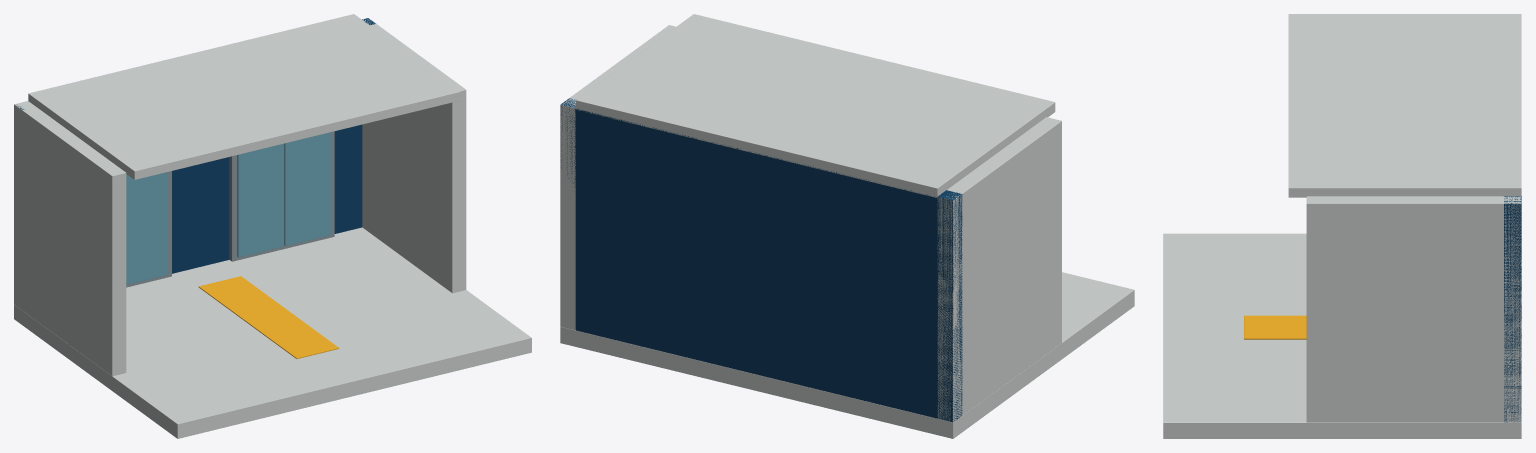
File: edited.glb
The picture shows the model from 3 angles, left to right: view 1: azimuth 30°, elevation 25°; view 2: azimuth 150°, elevation 25°; view 3: azimuth 270°, elevation 25°; orthographic projection. The views are drawn at different scales.
Visible parts, largest first — view 1: FLOOR, CEILING, CORE_Side.001, CORE_Side, CORE_Back, LIFT_Leaf.002, LIFT_Leaf.003, LIFT_Leaf.001, CIRCULATION_Tactile, LIFT_Frame.001, LIFT_Frame; view 2: CORE_Back, CEILING, CORE_Side.001, FLOOR, CORE_Side; view 3: CORE_Side, CEILING, FLOOR, CORE_Back, CIRCULATION_Tactile.
Part boxes in pixels (<box>): FLOOR: <box>14,227,531,438</box>; CEILING: <box>28,14,460,179</box>; CORE_Side.001: <box>14,101,126,376</box>; CORE_Side: <box>362,18,466,293</box>; CORE_Back: <box>18,18,375,273</box>; LIFT_Leaf.002: <box>237,144,283,257</box>; LIFT_Leaf.003: <box>284,132,330,245</box>; LIFT_Leaf.001: <box>126,172,167,284</box>; CIRCULATION_Tactile: <box>198,276,339,358</box>; LIFT_Frame.001: <box>229,131,334,261</box>; LIFT_Frame: <box>126,171,171,287</box>; CORE_Back: <box>561,98,962,422</box>; CEILING: <box>576,14,1055,197</box>; CORE_Side.001: <box>937,117,1061,422</box>; FLOOR: <box>560,272,1134,438</box>; CORE_Side: <box>560,25,675,330</box>; CORE_Side: <box>1306,196,1521,422</box>; CEILING: <box>1288,14,1521,197</box>; FLOOR: <box>1163,233,1521,438</box>; CORE_Back: <box>1504,196,1521,422</box>; CIRCULATION_Tactile: <box>1244,315,1306,339</box>.
Size of the model in its own units: 5 by 3 by 4.
